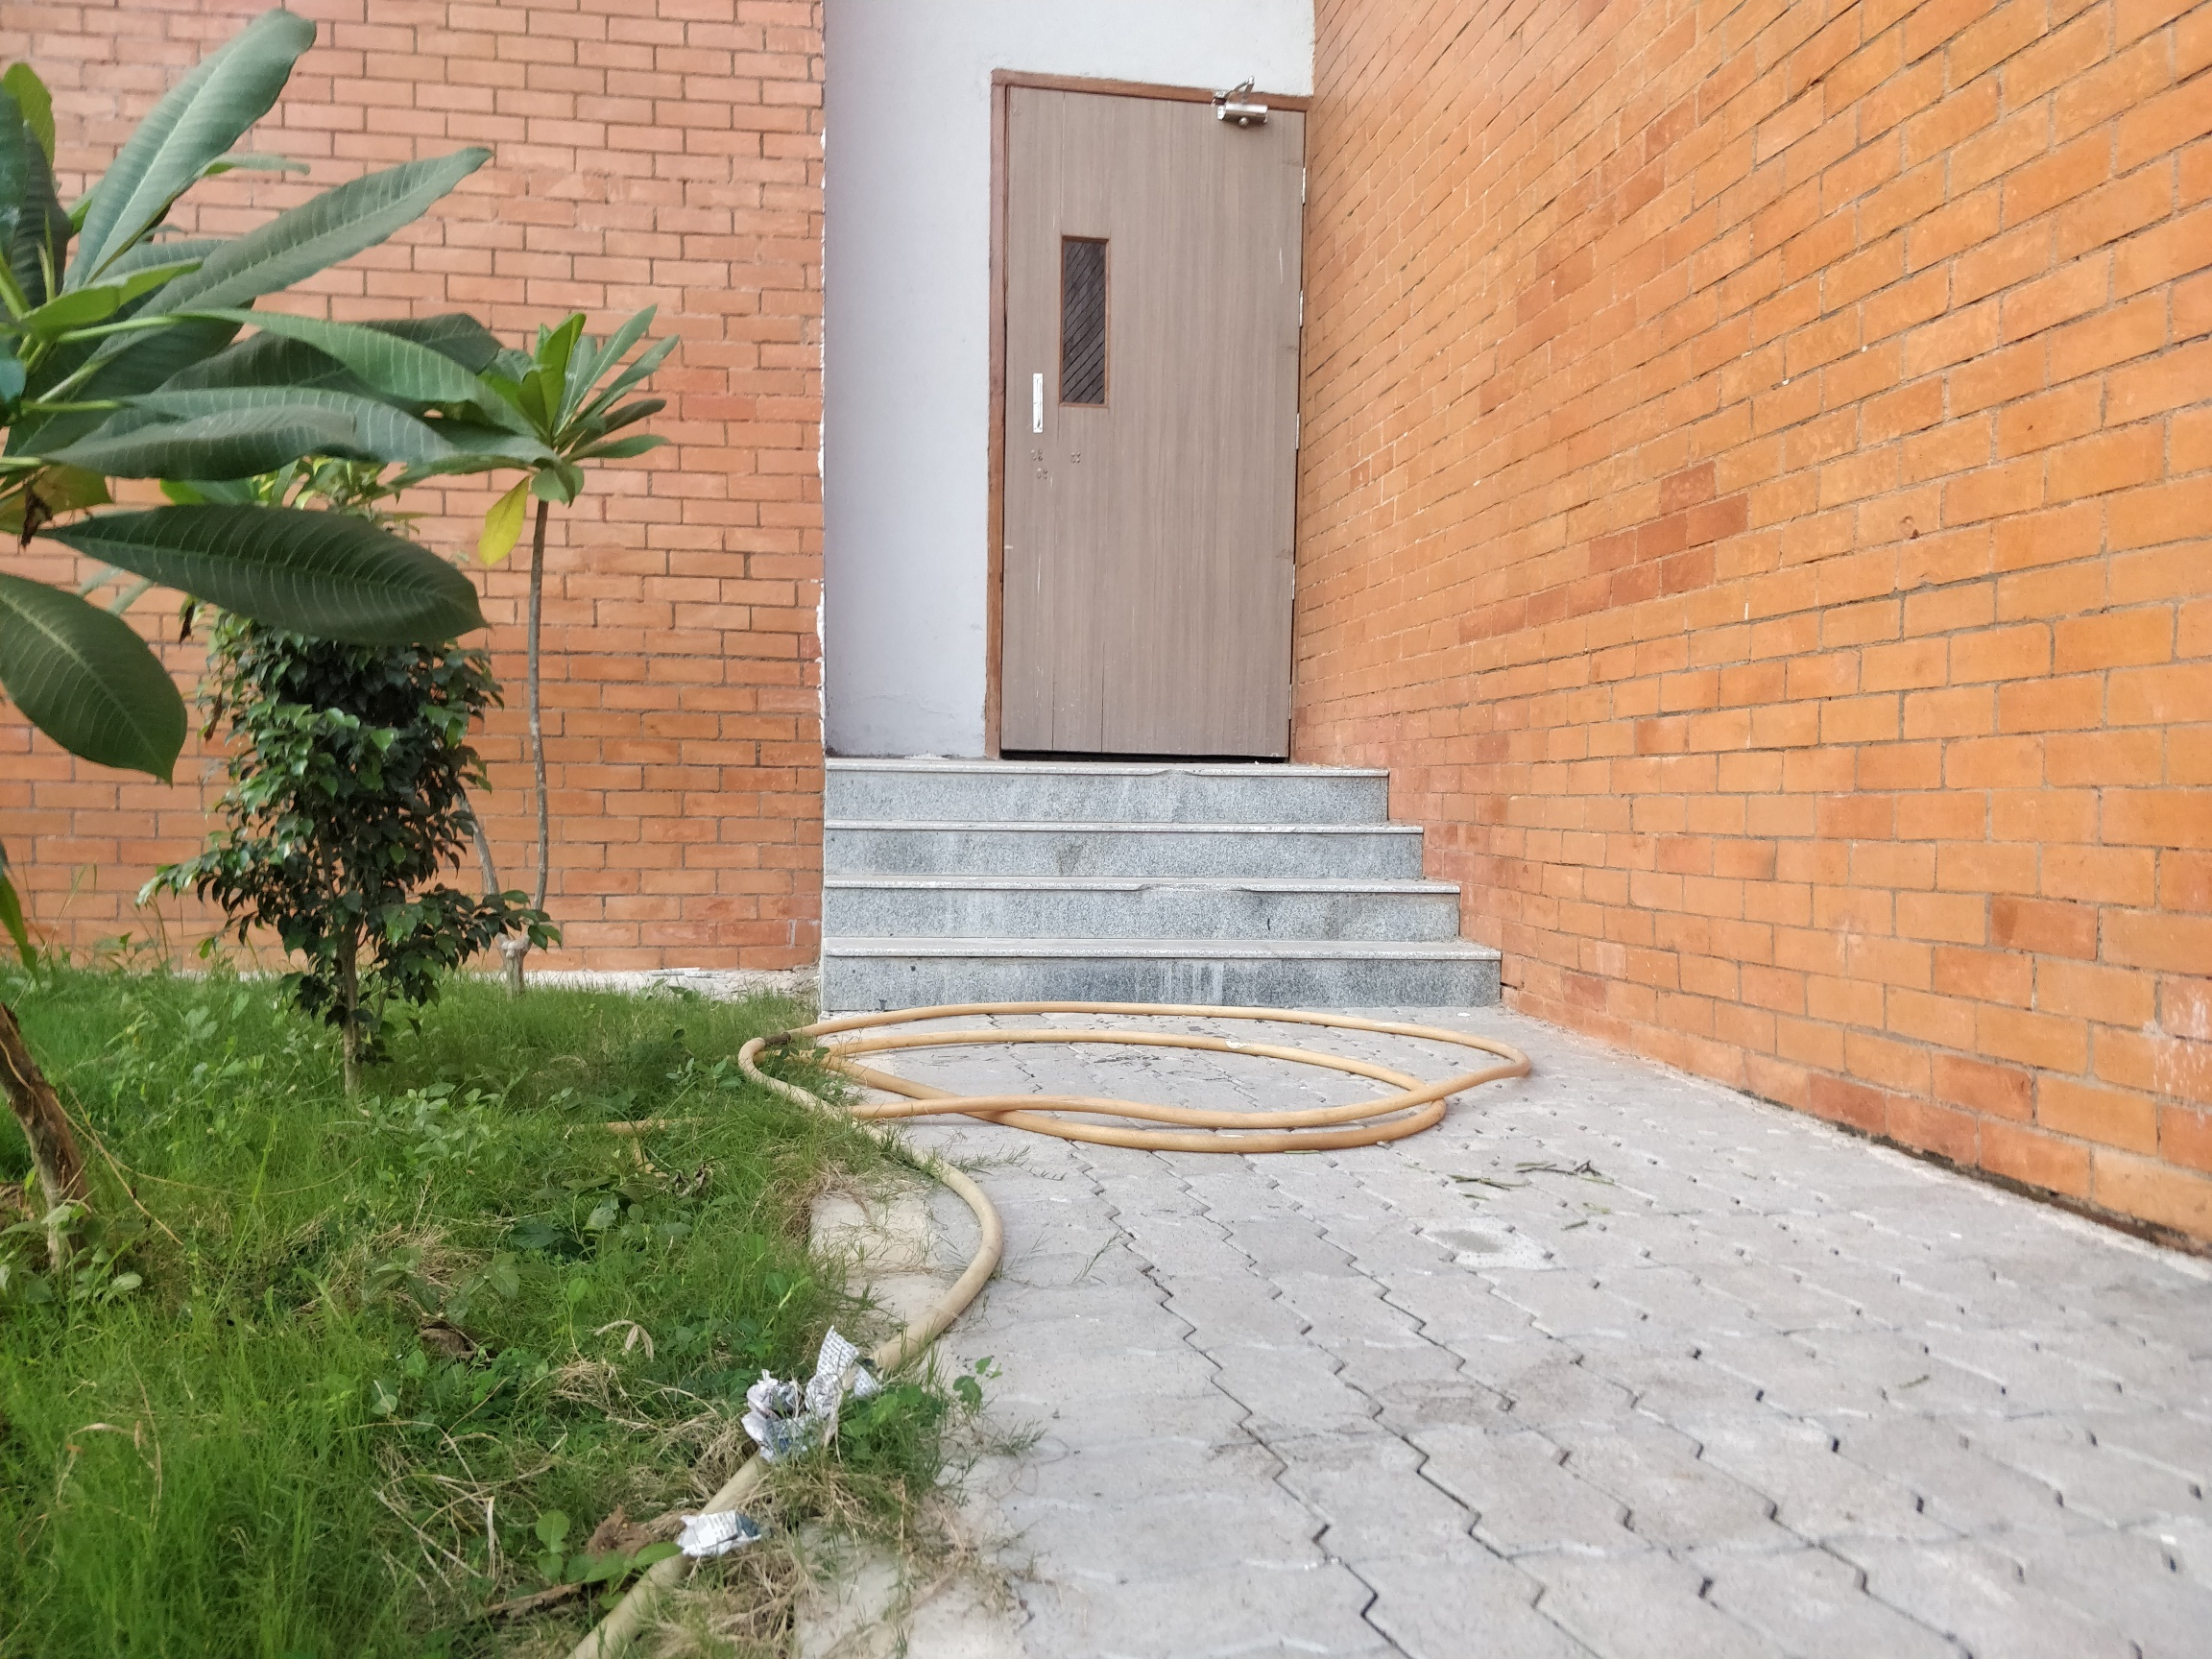stairs_up: (810, 760, 1533, 1019)
